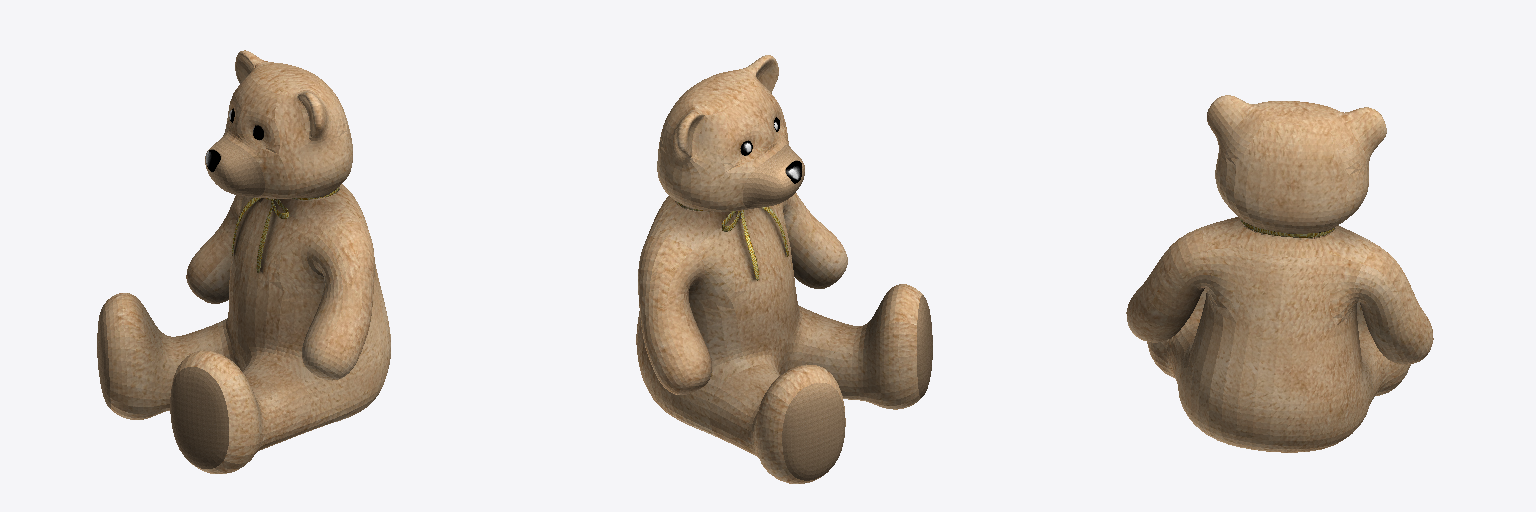
3 renders of one model, left to right at view 1: azimuth 30°, elevation 25°; view 2: azimuth 150°, elevation 25°; view 3: azimuth 270°, elevation 25°, orthographic.
Parts seen in each view (by area): view 1: 10607_teddy_bear_SG_v1; view 2: 10607_teddy_bear_SG_v1; view 3: 10607_teddy_bear_SG_v1.
Part boxes in pixels (x1,y1,x2,y2): 10607_teddy_bear_SG_v1: (97, 50, 390, 473); 10607_teddy_bear_SG_v1: (636, 55, 932, 483); 10607_teddy_bear_SG_v1: (1126, 95, 1433, 452).
Size of the model in its own units: 2.07 by 2.88 by 2.3.
Materials: 1 (1 with a texture image).